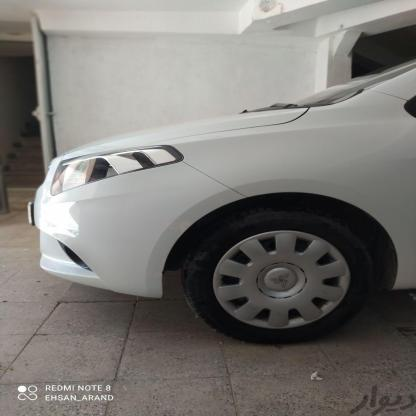Car: (22, 51, 416, 335)
